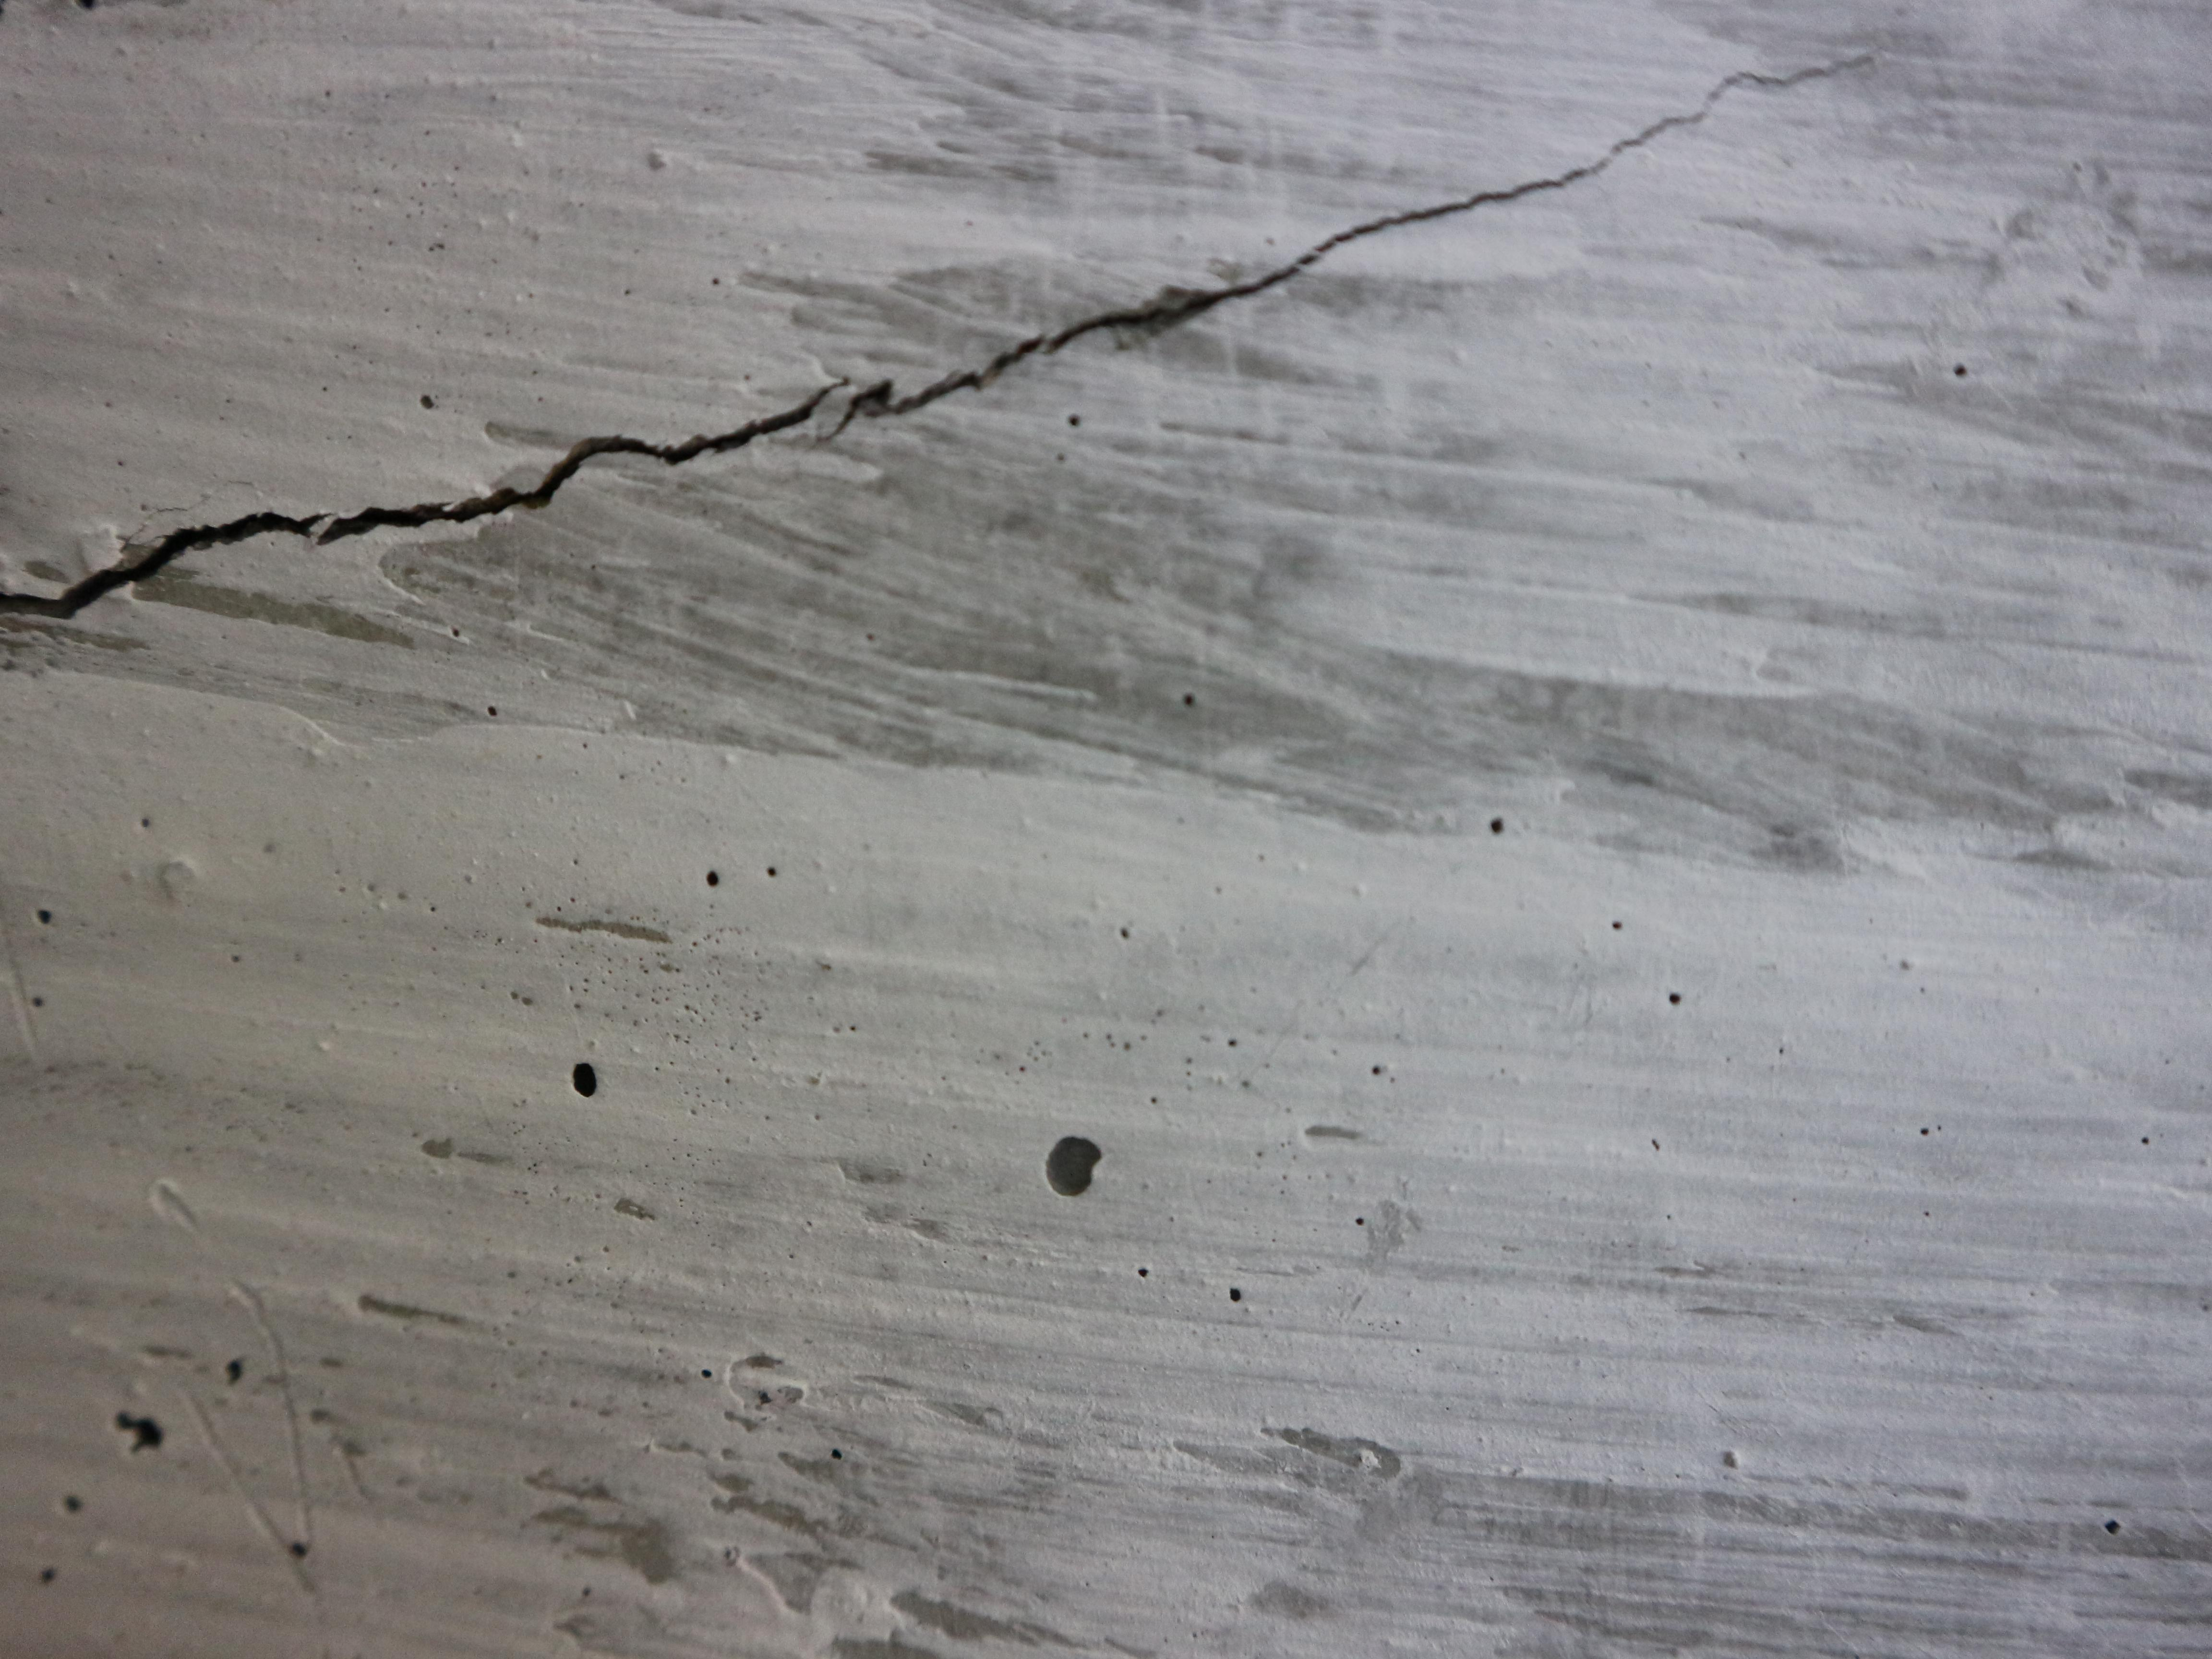crack: (0, 51, 1876, 647)
hole: (1045, 1134, 1109, 1204), (113, 1415, 167, 1455), (570, 1060, 597, 1103), (225, 1358, 242, 1389), (2102, 1518, 2123, 1535), (64, 1495, 82, 1514), (35, 908, 52, 927), (1487, 817, 1503, 838), (418, 394, 435, 411), (287, 1542, 307, 1558), (1228, 1284, 1244, 1303), (705, 870, 721, 887), (40, 1568, 57, 1584), (1181, 692, 1197, 708), (1066, 411, 1080, 425), (1952, 361, 1965, 376), (1137, 1265, 1150, 1281), (1118, 925, 1129, 941), (1669, 993, 1681, 1006), (831, 1448, 843, 1460), (700, 1368, 714, 1378), (1609, 920, 1623, 931), (2141, 1134, 2151, 1147), (1918, 1126, 1930, 1136), (1355, 1216, 1366, 1227), (1371, 1065, 1381, 1075), (766, 868, 775, 877)
